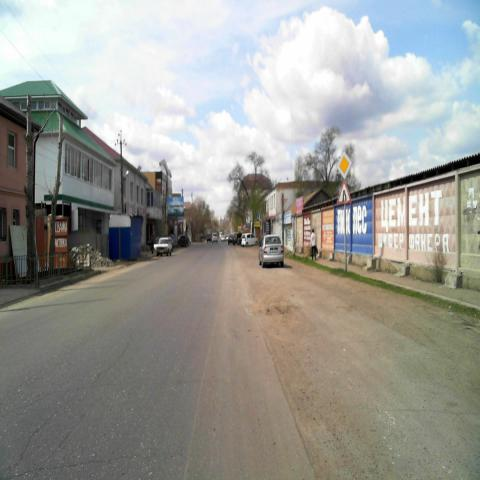1_20_2: (335, 180, 352, 204)
2_1: (336, 150, 352, 178)
